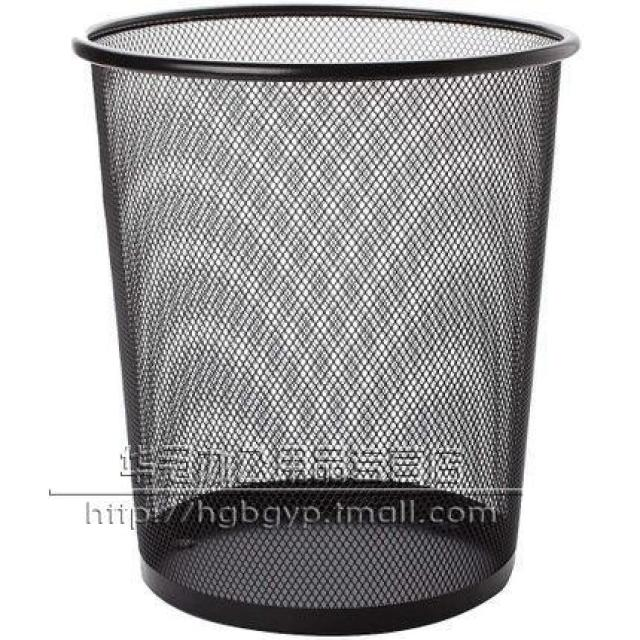dustbin: (72, 0, 588, 640)
